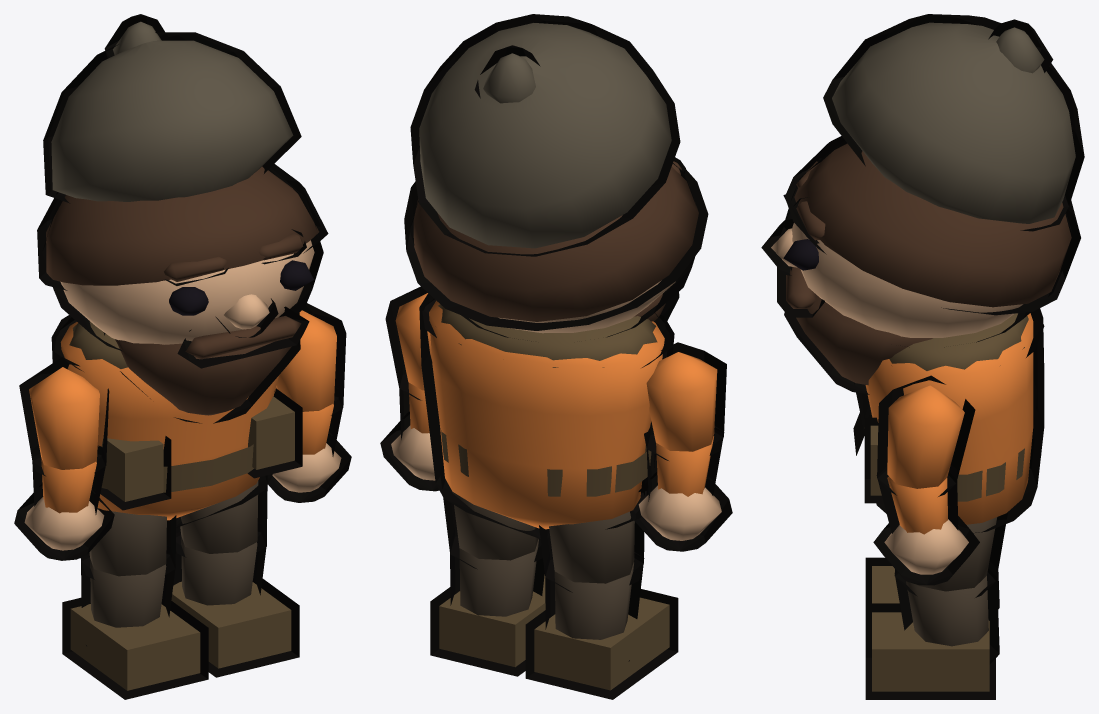
Rendered from dwarf.glb.
The picture shows the model from 3 angles, left to right: view 1: azimuth 30°, elevation 25°; view 2: azimuth 150°, elevation 25°; view 3: azimuth 270°, elevation 25°; orthographic projection. The views are drawn at different scales.
Parts seen in each view (by area): view 1: Head, Head.001, LegR, Torso, LegL, ArmR, Torso.001, ArmL, HandR, HandL; view 2: Head.001, Torso, Head, LegR, LegL, ArmR, HandR, ArmL, HandL; view 3: Head, Head.001, Torso, LegL, ArmL, HandL, Torso.001, LegR.
Part boxes in pixels (<box>): Head: <box>37,164,328,423</box>; Head.001: <box>43,14,301,203</box>; LegR: <box>62,508,208,699</box>; Torso: <box>51,315,278,527</box>; LegL: <box>171,475,299,677</box>; ArmR: <box>19,357,109,514</box>; Torso.001: <box>94,388,302,510</box>; ArmL: <box>276,303,346,456</box>; HandR: <box>14,483,114,560</box>; HandL: <box>268,431,351,502</box>; Head.001: <box>410,14,680,256</box>; Torso: <box>419,293,674,538</box>; Head: <box>404,157,708,341</box>; LegR: <box>525,479,678,699</box>; LegL: <box>430,461,545,676</box>; ArmR: <box>644,342,726,501</box>; HandR: <box>630,472,732,551</box>; ArmL: <box>385,286,432,439</box>; HandL: <box>380,411,439,491</box>; Head: <box>761,136,1080,394</box>; Head.001: <box>823,14,1084,231</box>; Torso: <box>853,308,1044,533</box>; LegL: <box>865,512,1007,699</box>; ArmL: <box>876,375,975,534</box>; HandL: <box>873,504,979,585</box>; Torso.001: <box>862,380,1036,503</box>; LegR: <box>865,557,999,608</box>.
Bounding box in the file's own units: 1.05 × 1.93 × 0.881.
